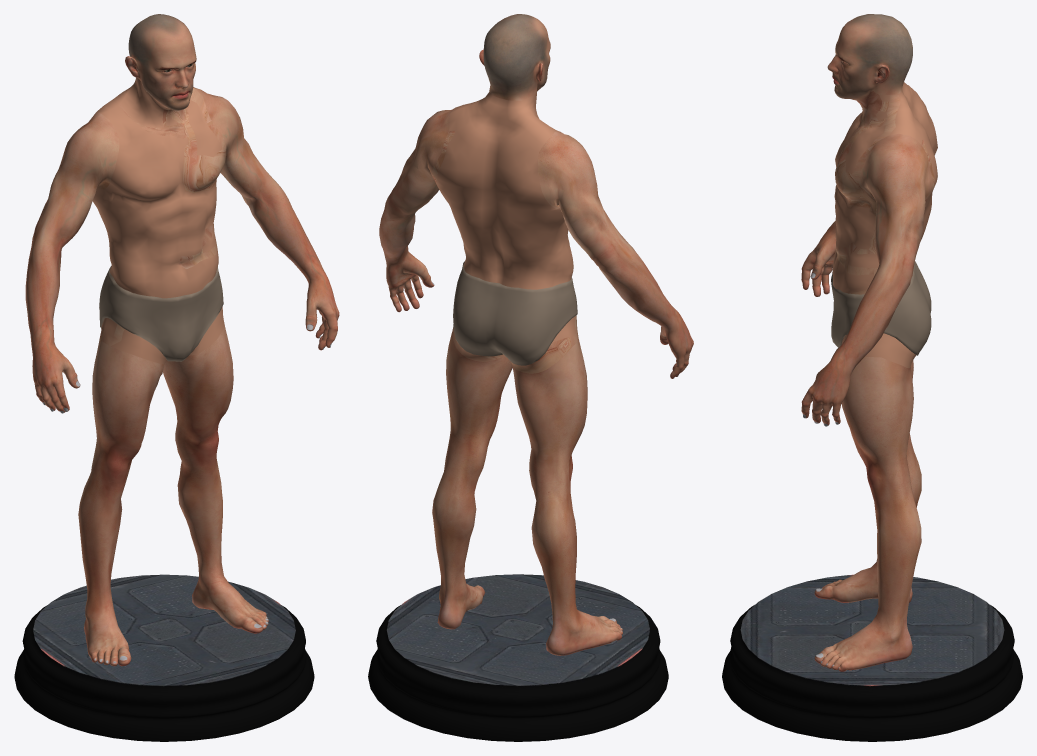
File: perfect_human_body.glb
3 views of the same model, side by side, from view 1: azimuth 30°, elevation 25°; view 2: azimuth 150°, elevation 25°; view 3: azimuth 270°, elevation 25° (orthographic).
Parts seen in each view (by area): view 1: Object_8, Object_11, Object_2, Object_4, Object_3, Object_10, Object_7, Object_12; view 2: Object_8, Object_4, Object_11, Object_3, Object_2, Object_10, Object_7, Object_12; view 3: Object_4, Object_8, Object_3, Object_2, Object_11, Object_7, Object_12, Object_10.
Boxes of the visible parts, x1,y1,x2,y2 form: Object_8: (78, 322, 268, 666); Object_11: (92, 83, 224, 364); Object_2: (25, 90, 339, 412); Object_4: (33, 574, 295, 689); Object_3: (14, 605, 314, 741); Object_10: (99, 266, 223, 361); Object_7: (125, 14, 196, 110); Object_12: (99, 88, 226, 346); Object_8: (432, 331, 622, 655); Object_4: (386, 574, 649, 689); Object_11: (436, 87, 578, 362); Object_3: (368, 605, 668, 741); Object_2: (379, 108, 693, 378); Object_10: (453, 261, 577, 365); Object_7: (479, 14, 550, 100); Object_12: (432, 130, 577, 373); Object_4: (740, 574, 1004, 689); Object_8: (814, 356, 921, 671); Object_3: (722, 605, 1022, 741); Object_2: (801, 100, 932, 425); Object_11: (833, 82, 937, 368); Object_7: (827, 14, 912, 100); Object_12: (835, 91, 934, 294); Object_10: (831, 261, 931, 355).
Bounding box in the file's own units: 88.22 × 187 × 76.87.
10 materials, 9 textured.
